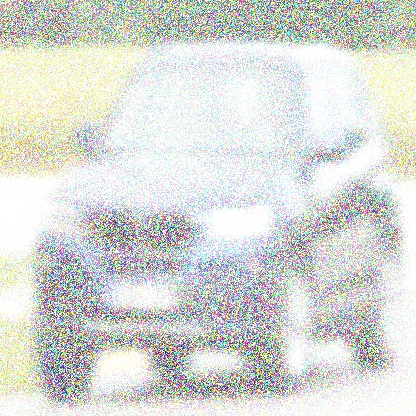Vehicle: (34, 42, 404, 405)
